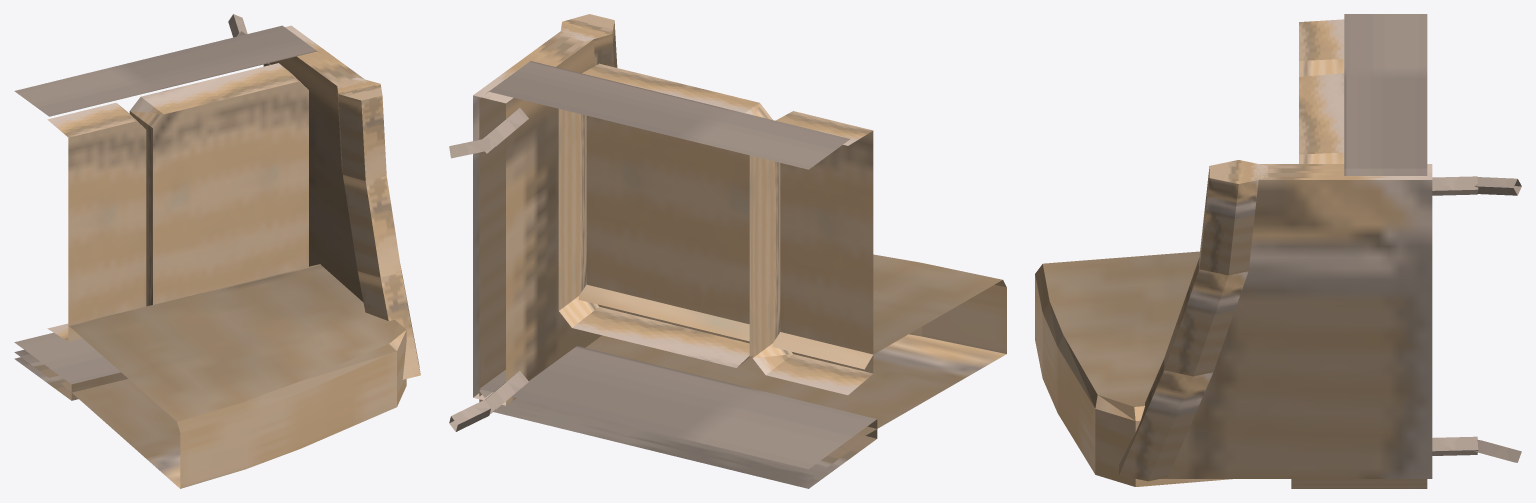
The model's file is pz_sofa_seating_indoor_03_victorian_c2_1_0_fidelity_r1.obj.
The picture shows the model from 3 angles, left to right: view 1: azimuth 30°, elevation 25°; view 2: azimuth 150°, elevation 25°; view 3: azimuth 270°, elevation 25°; orthographic projection. The views are drawn at different scales.
Visible parts, largest first — view 1: pz_sofa_seating_indoor_03_victorian_c2_1_0__sculpted_back__back, pz_sofa_seating_indoor_03_victorian_c2_1_0__seat_2__seat, pz_sofa_seating_indoor_03_victorian_c2_1_0__seat_1__seat, pz_sofa_seating_indoor_03_victorian_c2_1_0__lower_body__body, pz_sofa_seating_indoor_03_victorian_c2_1_0__curved_victorian_sid, pz_sofa_seating_indoor_03_victorian_c2_1_0__victorian_roll_1_2__, pz_sofa_seating_indoor_03_victorian_c2_1_0__victorian_roll_1_1__, pz_sofa_seating_indoor_03_victorian_c2_1_0__rear_body_bridge__bo, pz_sofa_seating_indoor_03_victorian_c2_1_0__sculpted_back__frame, pz_sofa_seating_indoor_03_victorian_c2_1_0__victorian_roll_1_0__; view 2: pz_sofa_seating_indoor_03_victorian_c2_1_0__seat_2__seat, pz_sofa_seating_indoor_03_victorian_c2_1_0__seat_1__seat, pz_sofa_seating_indoor_03_victorian_c2_1_0__lower_body__body, pz_sofa_seating_indoor_03_victorian_c2_1_0__rear_body_bridge__bo, pz_sofa_seating_indoor_03_victorian_c2_1_0__sculpted_back__back, pz_sofa_seating_indoor_03_victorian_c2_1_0__curved_victorian_sid, pz_sofa_seating_indoor_03_victorian_c2_1_0__sculpted_back__frame, pz_sofa_seating_indoor_03_victorian_c2_1_0__victorian_roll_1_2__, pz_sofa_seating_indoor_03_victorian_c2_1_0__curved_foot_1_1_1__f, pz_sofa_seating_indoor_03_victorian_c2_1_0__curved_foot_1_-1_1__, pz_sofa_seating_indoor_03_victorian_c2_1_0__curved_foot_1_-1_0__; view 3: pz_sofa_seating_indoor_03_victorian_c2_1_0__curved_victorian_sid, pz_sofa_seating_indoor_03_victorian_c2_1_0__sculpted_back__back, pz_sofa_seating_indoor_03_victorian_c2_1_0__lower_body__body, pz_sofa_seating_indoor_03_victorian_c2_1_0__victorian_roll_1_2__, pz_sofa_seating_indoor_03_victorian_c2_1_0__victorian_roll_1_0__, pz_sofa_seating_indoor_03_victorian_c2_1_0__victorian_roll_1_1__, pz_sofa_seating_indoor_03_victorian_c2_1_0__seat_2__seat, pz_sofa_seating_indoor_03_victorian_c2_1_0__seat_1__seat, pz_sofa_seating_indoor_03_victorian_c2_1_0__sculpted_back__frame, pz_sofa_seating_indoor_03_victorian_c2_1_0__rear_body_bridge__bo, pz_sofa_seating_indoor_03_victorian_c2_1_0__curved_foot_1_-1_1__, pz_sofa_seating_indoor_03_victorian_c2_1_0__curved_foot_1_1_1__f (+2 smaller).
Part boxes in pixels (<box>): pz_sofa_seating_indoor_03_victorian_c2_1_0__sculpted_back__back: <box>61,264,406,488</box>; pz_sofa_seating_indoor_03_victorian_c2_1_0__seat_2__seat: <box>129,63,308,306</box>; pz_sofa_seating_indoor_03_victorian_c2_1_0__seat_1__seat: <box>47,103,146,341</box>; pz_sofa_seating_indoor_03_victorian_c2_1_0__lower_body__body: <box>14,25,319,377</box>; pz_sofa_seating_indoor_03_victorian_c2_1_0__curved_victorian_sid: <box>263,25,364,302</box>; pz_sofa_seating_indoor_03_victorian_c2_1_0__victorian_roll_1_2__: <box>337,77,386,180</box>; pz_sofa_seating_indoor_03_victorian_c2_1_0__victorian_roll_1_1__: <box>343,175,401,277</box>; pz_sofa_seating_indoor_03_victorian_c2_1_0__rear_body_bridge__bo: <box>14,332,127,400</box>; pz_sofa_seating_indoor_03_victorian_c2_1_0__sculpted_back__frame: <box>177,265,406,432</box>; pz_sofa_seating_indoor_03_victorian_c2_1_0__victorian_roll_1_0__: <box>357,266,420,379</box>; pz_sofa_seating_indoor_03_victorian_c2_1_0__seat_2__seat: <box>558,63,772,367</box>; pz_sofa_seating_indoor_03_victorian_c2_1_0__seat_1__seat: <box>752,111,873,395</box>; pz_sofa_seating_indoor_03_victorian_c2_1_0__lower_body__body: <box>479,61,850,480</box>; pz_sofa_seating_indoor_03_victorian_c2_1_0__rear_body_bridge__bo: <box>479,346,877,488</box>; pz_sofa_seating_indoor_03_victorian_c2_1_0__sculpted_back__back: <box>585,254,1006,436</box>; pz_sofa_seating_indoor_03_victorian_c2_1_0__curved_victorian_sid: <box>473,29,601,405</box>; pz_sofa_seating_indoor_03_victorian_c2_1_0__sculpted_back__frame: <box>578,280,1006,369</box>; pz_sofa_seating_indoor_03_victorian_c2_1_0__victorian_roll_1_2__: <box>560,14,617,67</box>; pz_sofa_seating_indoor_03_victorian_c2_1_0__curved_foot_1_1_1__f: <box>482,108,528,153</box>; pz_sofa_seating_indoor_03_victorian_c2_1_0__curved_foot_1_-1_1__: <box>485,371,528,414</box>; pz_sofa_seating_indoor_03_victorian_c2_1_0__curved_foot_1_-1_0__: <box>449,400,490,431</box>; pz_sofa_seating_indoor_03_victorian_c2_1_0__curved_victorian_sid: <box>1160,164,1432,478</box>; pz_sofa_seating_indoor_03_victorian_c2_1_0__sculpted_back__back: <box>1035,251,1232,486</box>; pz_sofa_seating_indoor_03_victorian_c2_1_0__lower_body__body: <box>1344,14,1427,175</box>; pz_sofa_seating_indoor_03_victorian_c2_1_0__victorian_roll_1_2__: <box>1199,160,1267,275</box>; pz_sofa_seating_indoor_03_victorian_c2_1_0__victorian_roll_1_0__: <box>1119,358,1213,481</box>; pz_sofa_seating_indoor_03_victorian_c2_1_0__victorian_roll_1_1__: <box>1164,258,1248,376</box>; pz_sofa_seating_indoor_03_victorian_c2_1_0__seat_2__seat: <box>1299,73,1344,163</box>; pz_sofa_seating_indoor_03_victorian_c2_1_0__seat_1__seat: <box>1299,19,1344,76</box>; pz_sofa_seating_indoor_03_victorian_c2_1_0__sculpted_back__frame: <box>1035,264,1144,420</box>; pz_sofa_seating_indoor_03_victorian_c2_1_0__rear_body_bridge__bo: <box>1291,479,1427,488</box>; pz_sofa_seating_indoor_03_victorian_c2_1_0__curved_foot_1_-1_1__: <box>1432,436,1478,455</box>; pz_sofa_seating_indoor_03_victorian_c2_1_0__curved_foot_1_1_1__f: <box>1432,176,1478,195</box>.
Bounding box in the file's own units: 0.8768 × 0.8075 × 1.09.
1 material, 1 textured.
